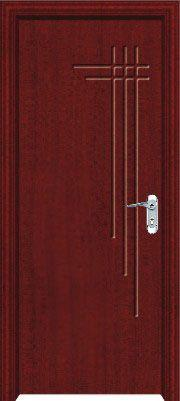door: (14, 13, 168, 394)
